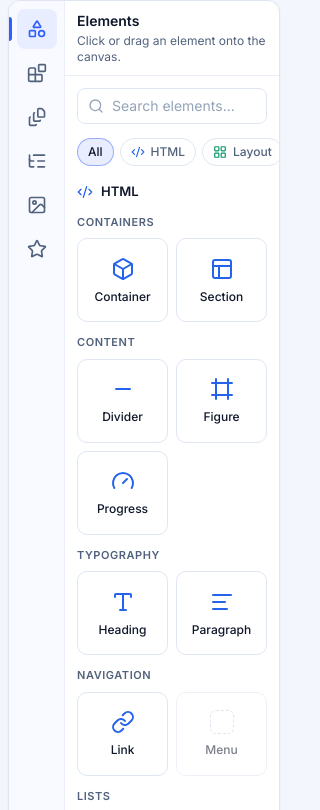
Scenario: ResourceSidebar › renders the provided structureContent when Structure is selected, and only then
This screenshot has width=320, height=810.
Expected: the text "mock structure panel" is not shown
Click the 4th tab named "Structure". click: click(36, 161)
box: [16,141,56,181]
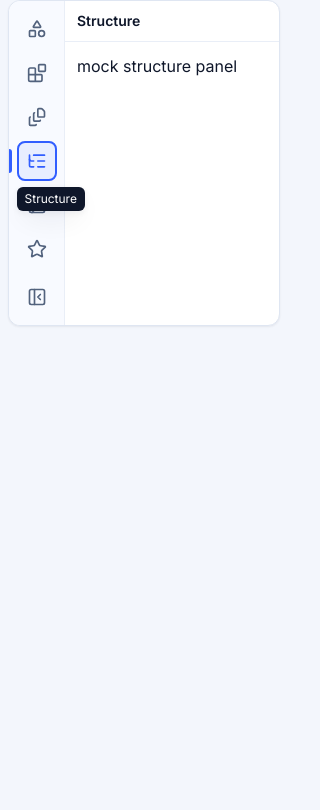
Now the text "mock structure panel" is shown, box [77,56,237,76]
